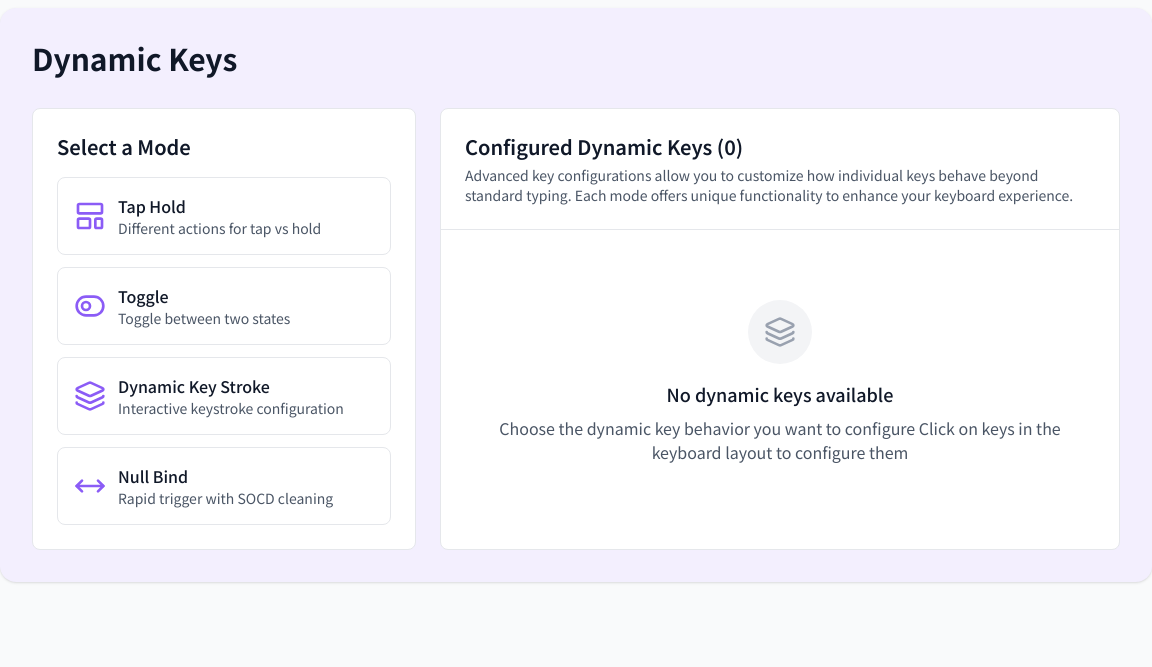
Tap-hold editor › starts a key without a mod-tap at Esc / Left Ctrl, 200 ms and 150 ms (D15, PL-010)
Click the button "Tap Hold Different actions for tap vs hold" at (224, 216), box 57,177 -> 391,255
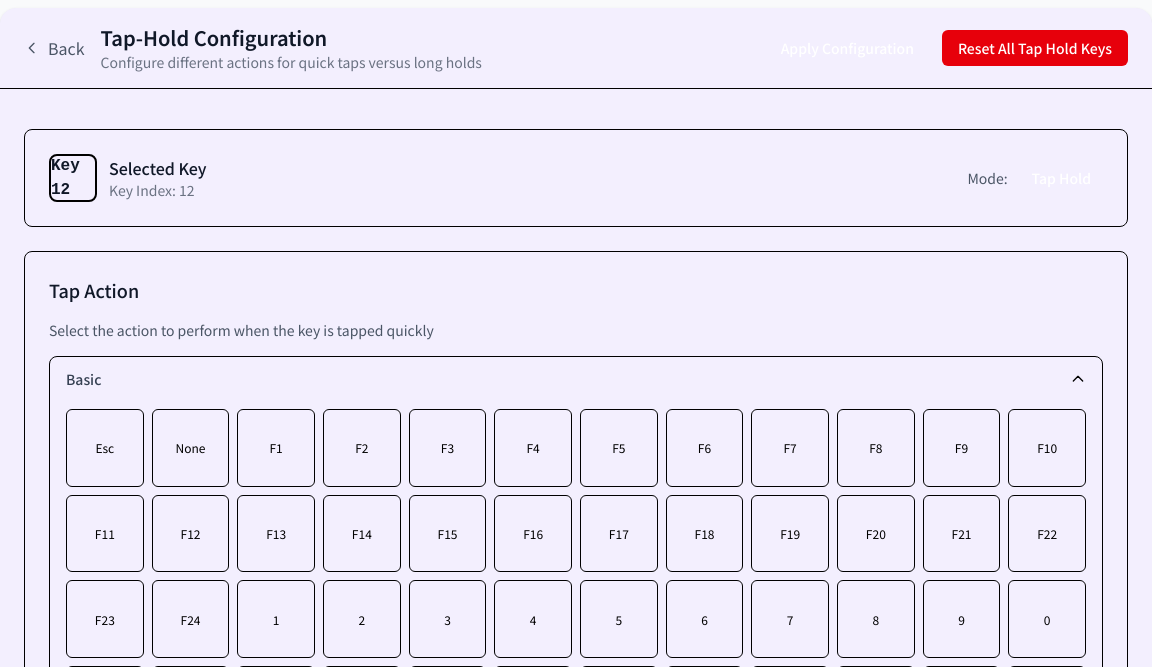
Expected: the text "Key Index: 12" is shown, 109,180 -> 206,200
Expected: the text "Key 12" is shown 2 times
